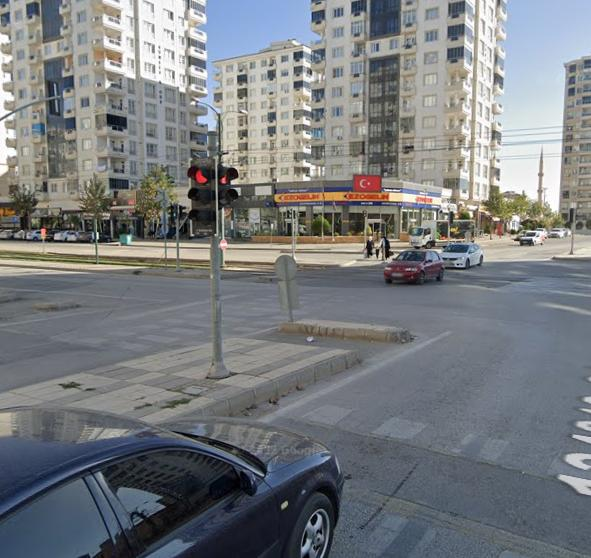redlight: (188, 163, 215, 230)
